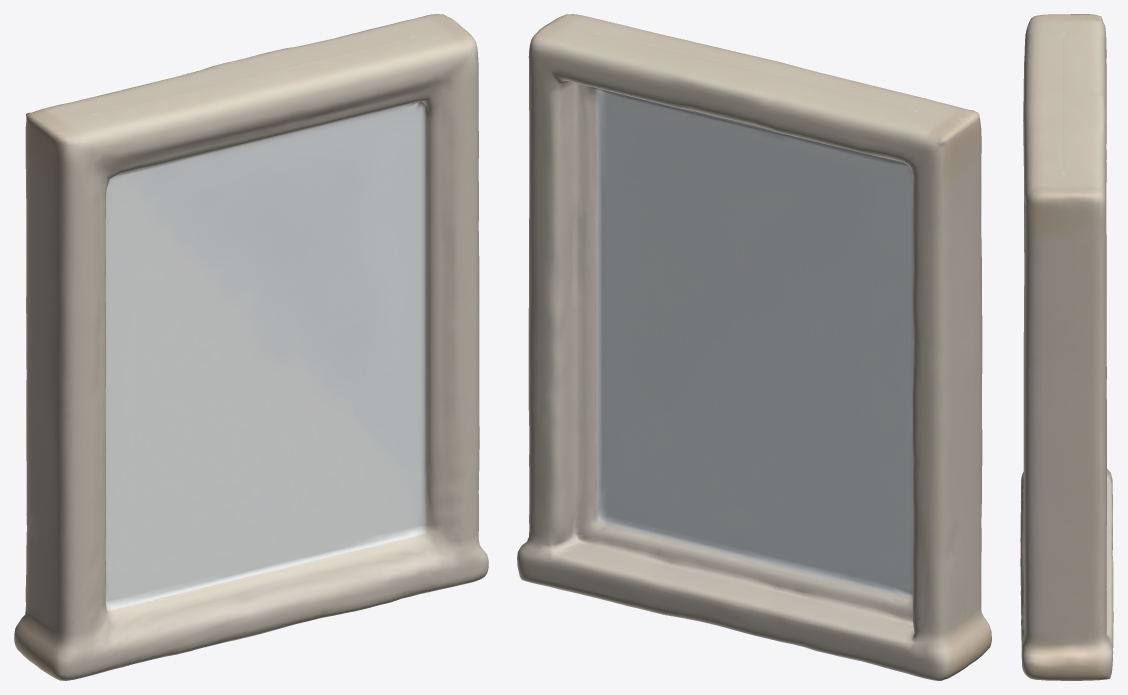
The model's file is Beige_Window_Frame.glb.
3 views of the same model, side by side, from view 1: azimuth 30°, elevation 25°; view 2: azimuth 150°, elevation 25°; view 3: azimuth 270°, elevation 25° (orthographic). The views are drawn at different scales.
Size of the model in its own units: 1.61 by 1.91 by 0.3313.
1 material, 1 textured.
